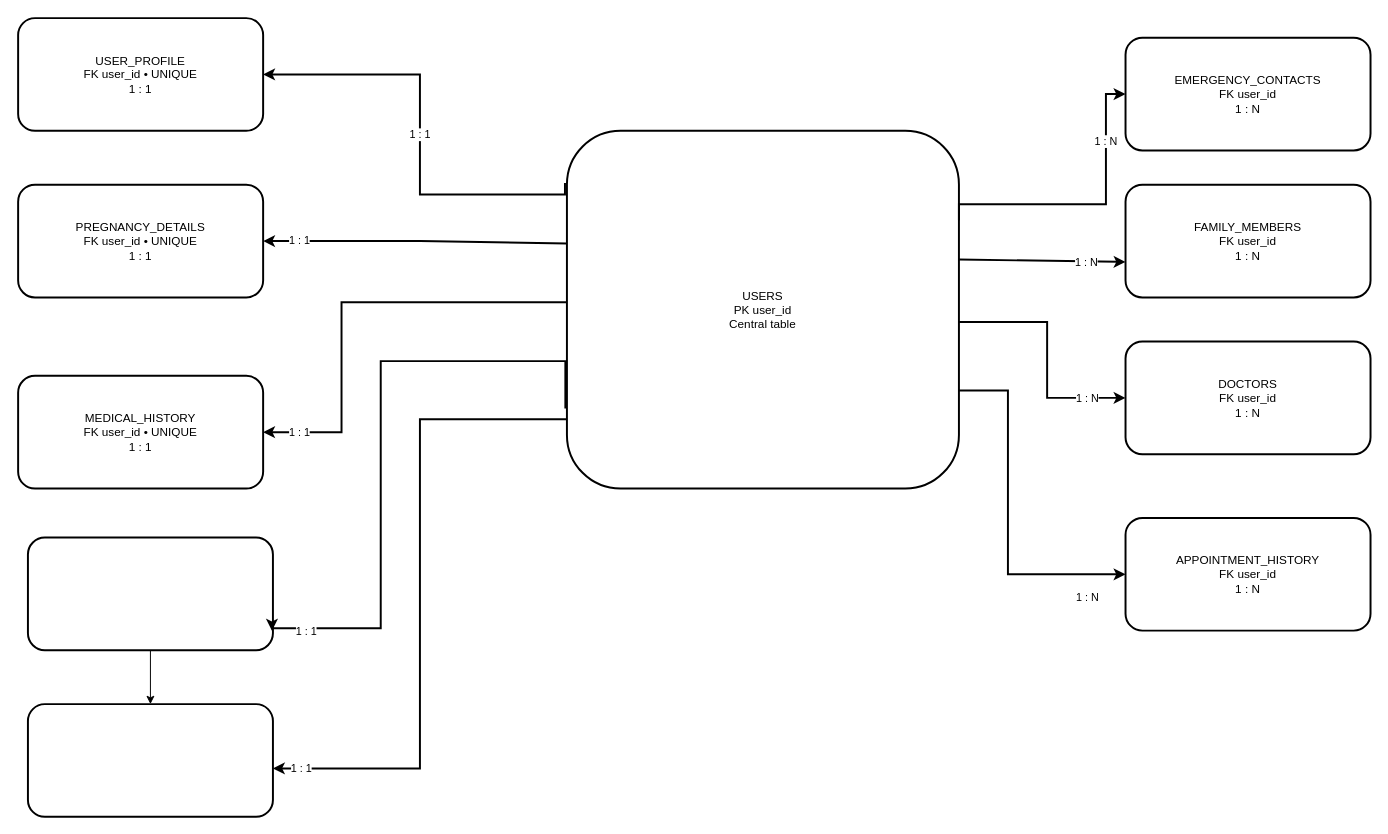
The diagram is 1388 pixels wide and 834 high, and some of its shapes have lost their labels. Here are the shapes that lost their labels. From the top down, the box of each, then its label:
(26, 536, 273, 651): ALLERGIES FK user_id • UNIQUE 1 : 1
(26, 703, 273, 817): NOTIFICATION_PREFERENCES FK user_id • UNIQUE 1 : 1
